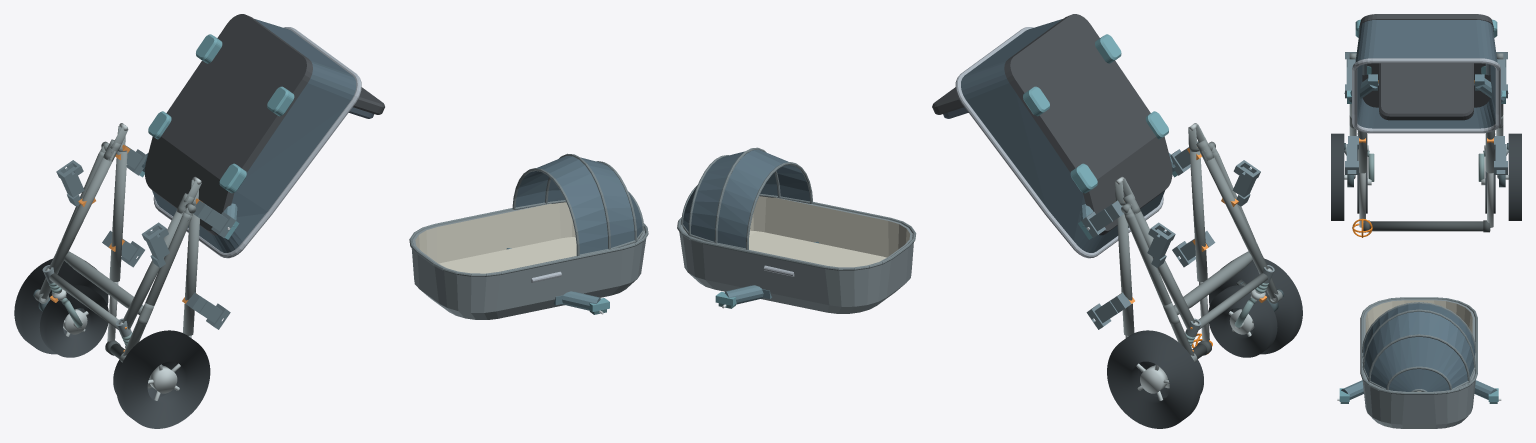
File: D21_w550_state3_wheel_M.glb
3 renders of one model, left to right at view 1: azimuth 30°, elevation 25°; view 2: azimuth 150°, elevation 25°; view 3: azimuth 270°, elevation 25°, orthographic. The views are drawn at different scales.
Visible parts, largest first — view 1: D21_Lower, D21_Upper, RL_tire.004, FR_tire.004, RR_tire.004, main_upper_1.005, main_lower_1.005, V46_rear_leg_-1.005, main_upper_-1.005, V46_rearbar.005, main_lower_-1.005, D21_Upper_Mount_H (+5 smaller); view 2: D21_Lower, D21_Upper, RR_tire.004, FL_tire.004, RL_tire.004, main_upper_-1.005, main_lower_-1.005, V46_rear_leg_1.005, main_upper_1.005, V46_rearbar.005, main_lower_1.005, D21_Upper_Mount_H (+5 smaller); view 3: D21_Lower, D21_Upper, round_handle.004, RL_tire.004, RR_tire.004, D21_Upper_Mount_H, D21_Lower_Mount_M, Universal_Cabin_Receiver_H_1, Universal_Cabin_Receiver_H_-1, main_upper_1.005, main_upper_-1.005, handle_slider_1.004 (+6 smaller).
Boxes of the visible parts, x1,y1,x2,y2 form: D21_Lower: [144, 14, 384, 258]; D21_Upper: [409, 153, 648, 319]; RL_tire.004: [116, 330, 210, 428]; FR_tire.004: [39, 285, 108, 357]; RR_tire.004: [14, 258, 108, 354]; main_upper_1.005: [109, 151, 127, 281]; main_lower_1.005: [48, 151, 115, 274]; V46_rear_leg_-1.005: [123, 212, 192, 355]; main_upper_-1.005: [183, 205, 199, 335]; V46_rearbar.005: [64, 251, 143, 314]; main_lower_-1.005: [122, 209, 185, 329]; D21_Upper_Mount_H: [506, 248, 609, 314]; D21_Lower: [932, 14, 1172, 258]; D21_Upper: [677, 147, 916, 313]; RR_tire.004: [1107, 330, 1200, 428]; FL_tire.004: [1208, 285, 1277, 357]; RL_tire.004: [1209, 258, 1302, 354]; main_upper_-1.005: [1190, 151, 1207, 281]; main_lower_-1.005: [1201, 151, 1268, 274]; V46_rear_leg_1.005: [1125, 212, 1194, 355]; main_upper_1.005: [1117, 205, 1134, 335]; V46_rearbar.005: [1174, 251, 1252, 314]; main_lower_1.005: [1131, 209, 1194, 329]; D21_Upper_Mount_H: [715, 241, 818, 308]; D21_Lower: [1352, 14, 1500, 133]; D21_Upper: [1360, 297, 1477, 428]; round_handle.004: [1369, 221, 1490, 231]; RL_tire.004: [1331, 133, 1344, 220]; RR_tire.004: [1508, 133, 1521, 220]; D21_Upper_Mount_H: [1337, 380, 1501, 403]; D21_Lower_Mount_M: [1344, 74, 1508, 103]; Universal_Cabin_Receiver_H_1: [1494, 136, 1507, 174]; Universal_Cabin_Receiver_H_-1: [1345, 136, 1358, 174]; main_upper_1.005: [1485, 130, 1494, 173]; main_upper_-1.005: [1358, 130, 1367, 173]; handle_slider_1.004: [1487, 173, 1493, 227].
Size of the model in its own units: 1.94 by 1.05 by 0.656.
